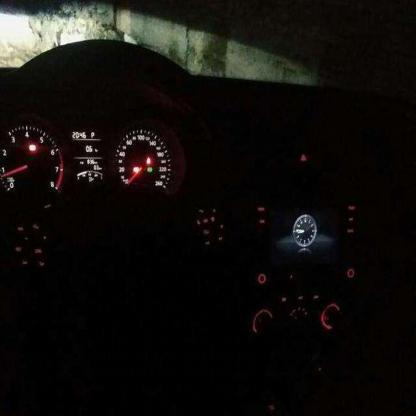other: (253, 294, 342, 332), (130, 154, 155, 188)
